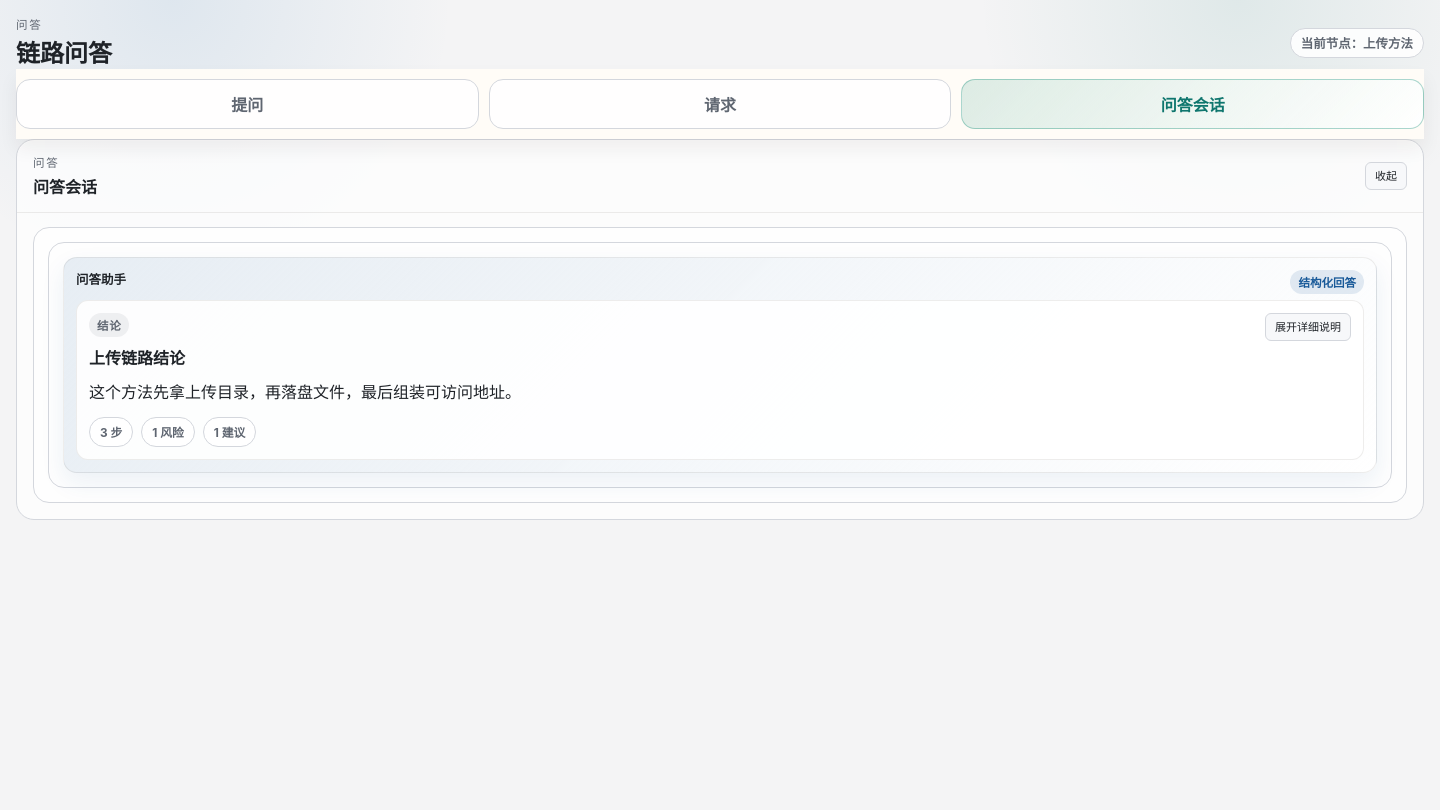
Test: QaTab › collapses long assistant answers into a summary first and lets the reader expand details
Expected: the heading "上传链路结论" is shown, [89,345,185,369]
Expected: the text "这个方法先拿上传目录，再落盘文件，最后组装可访问地址。" is shown, [89,382,521,402]
Click the button "展开详细说明".
click(1308, 327)  # box [1265,313,1351,341]
(page scrolled)
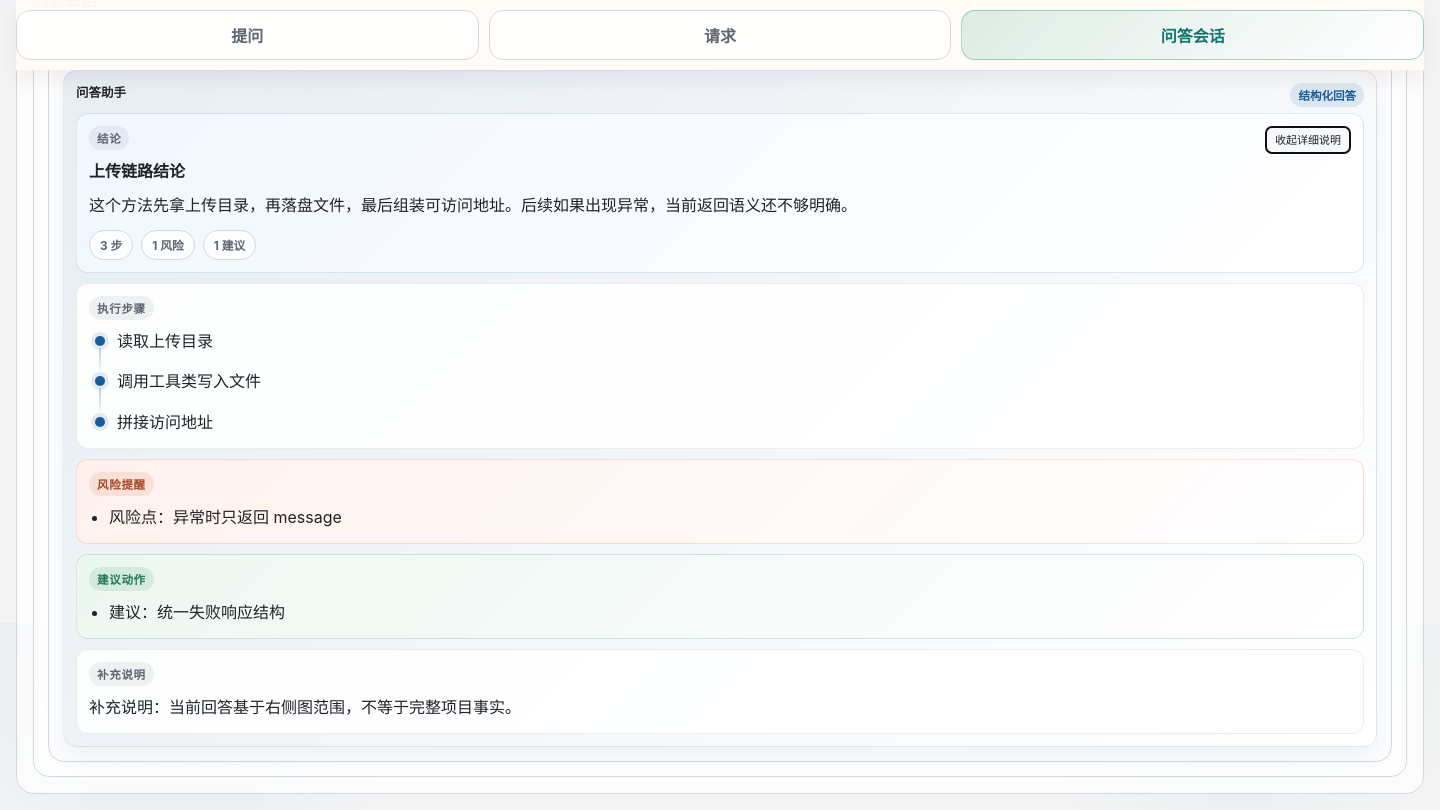
Now the element that starts with "执行步骤" is shown, box [76,282,1364,734]
Now the text "执行步骤" is shown, box [89,296,154,320]
Now the text "风险提醒" is shown, box [89,472,154,496]
